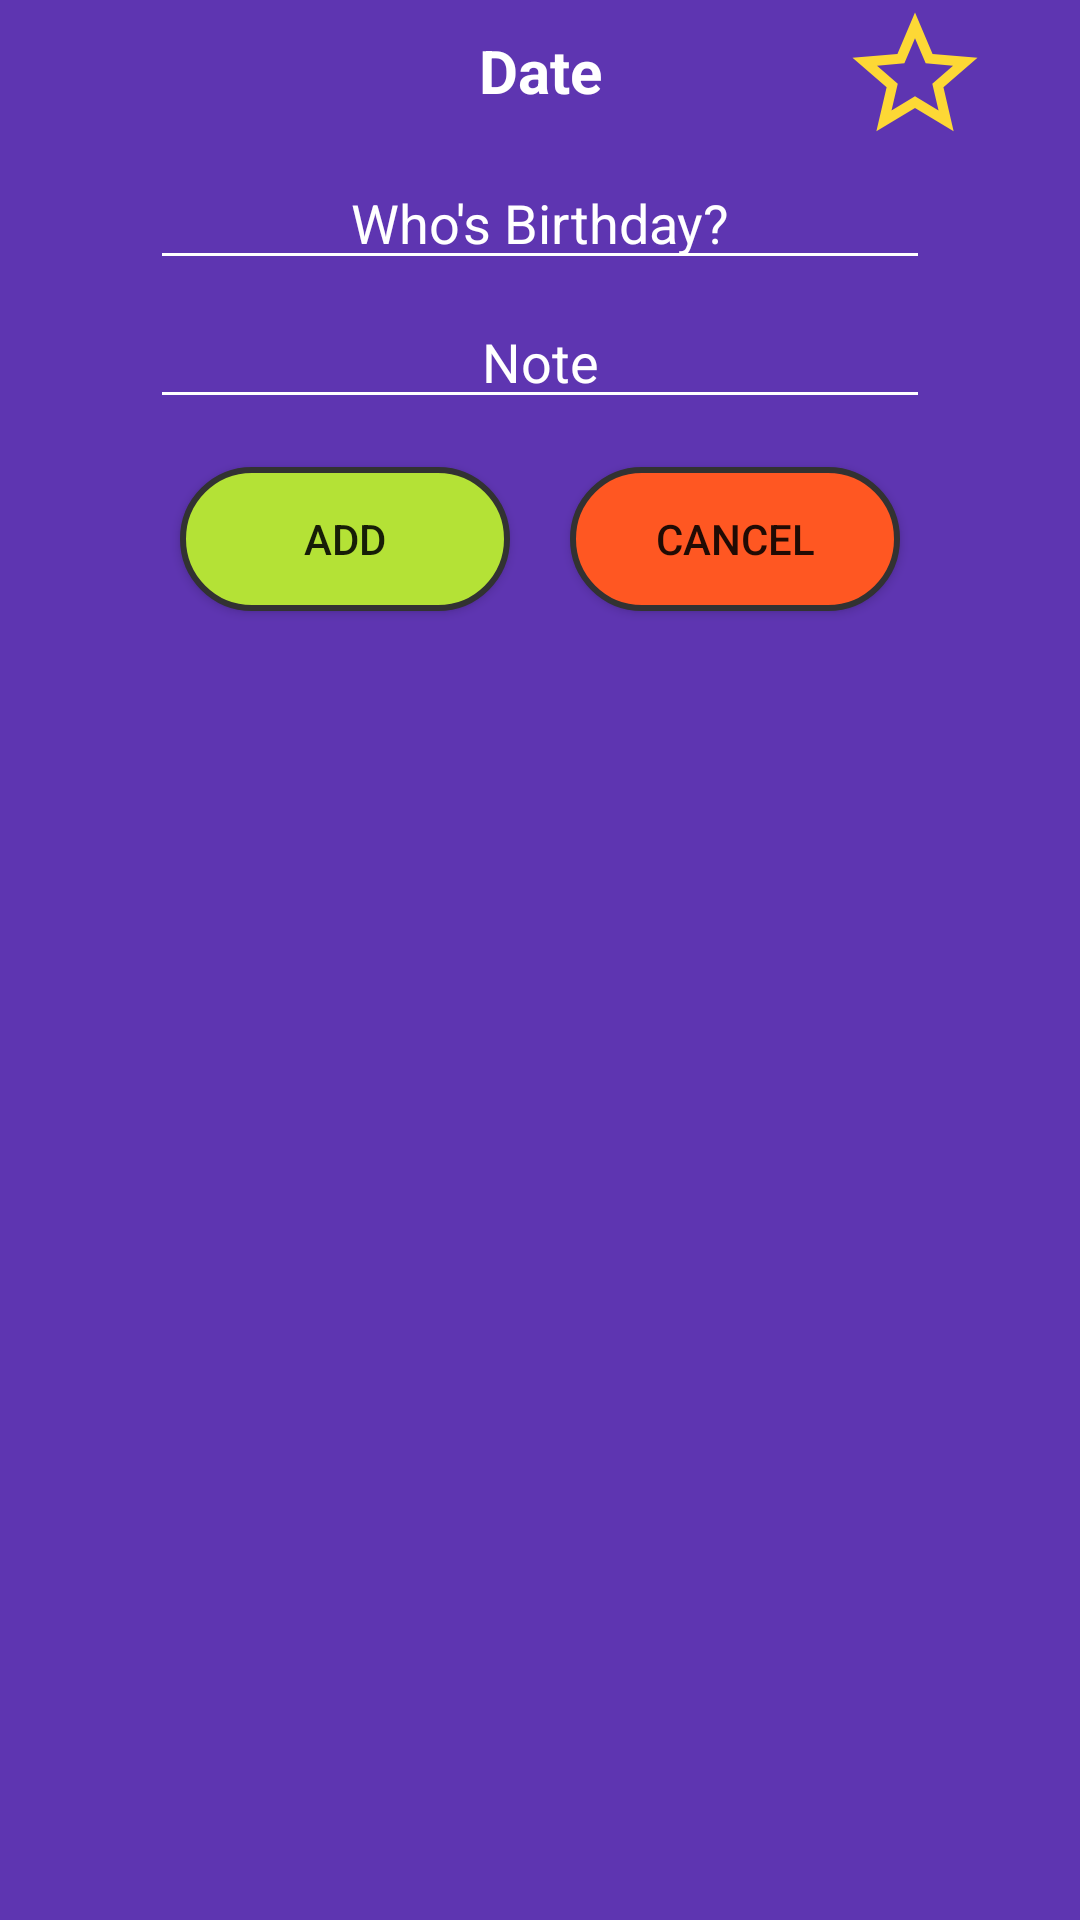

Icon click points for this 1080×1920 phone screenshot, format (x,y):
empty star: (915,72)
